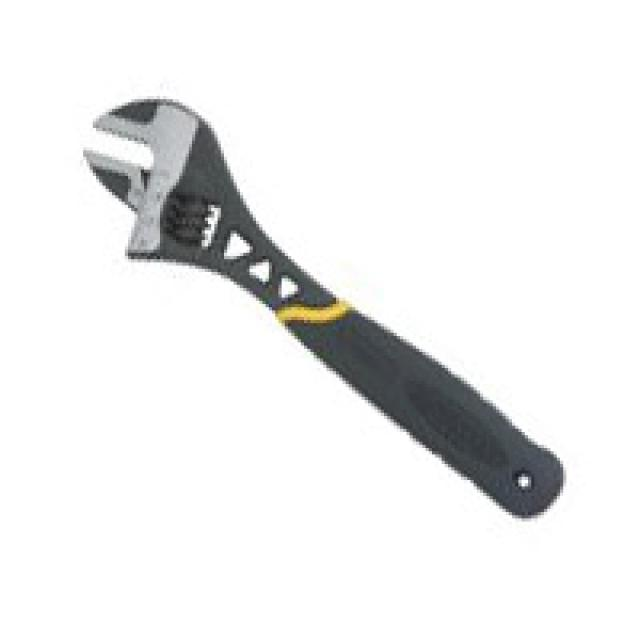wrench: (68, 84, 589, 544)
